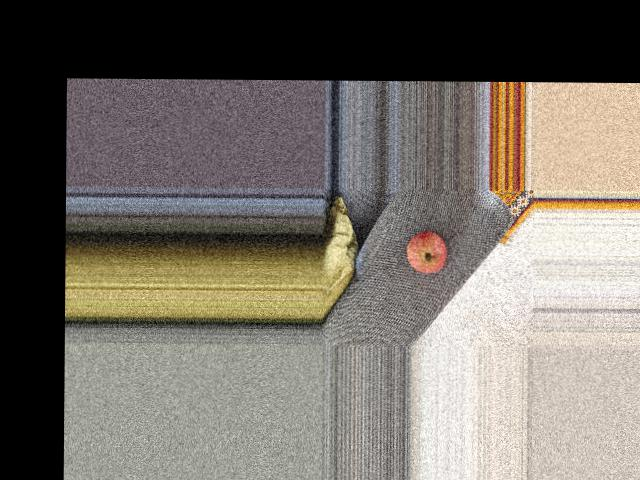apple: (401, 226, 449, 271)
